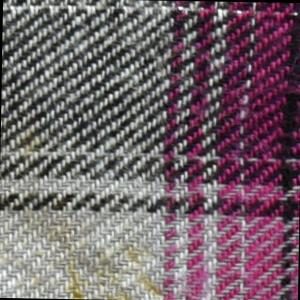Oil Stain: (1, 108, 169, 300)
